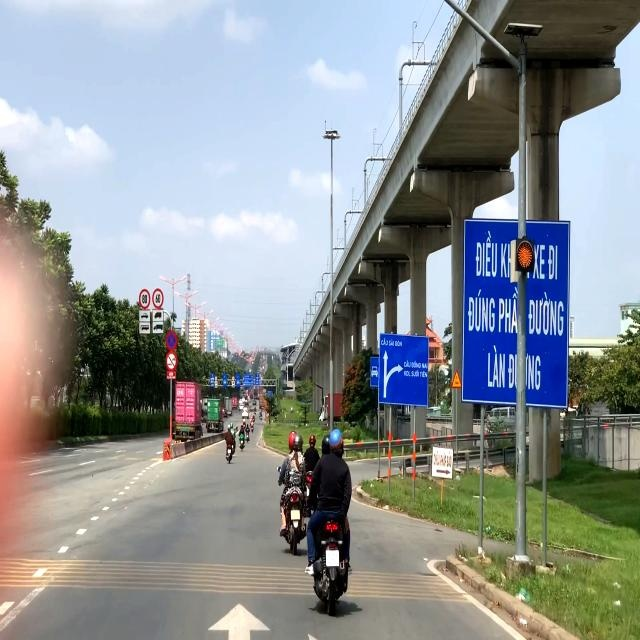bien_cam: (165, 329, 178, 351), (139, 287, 151, 309), (152, 287, 164, 308)
